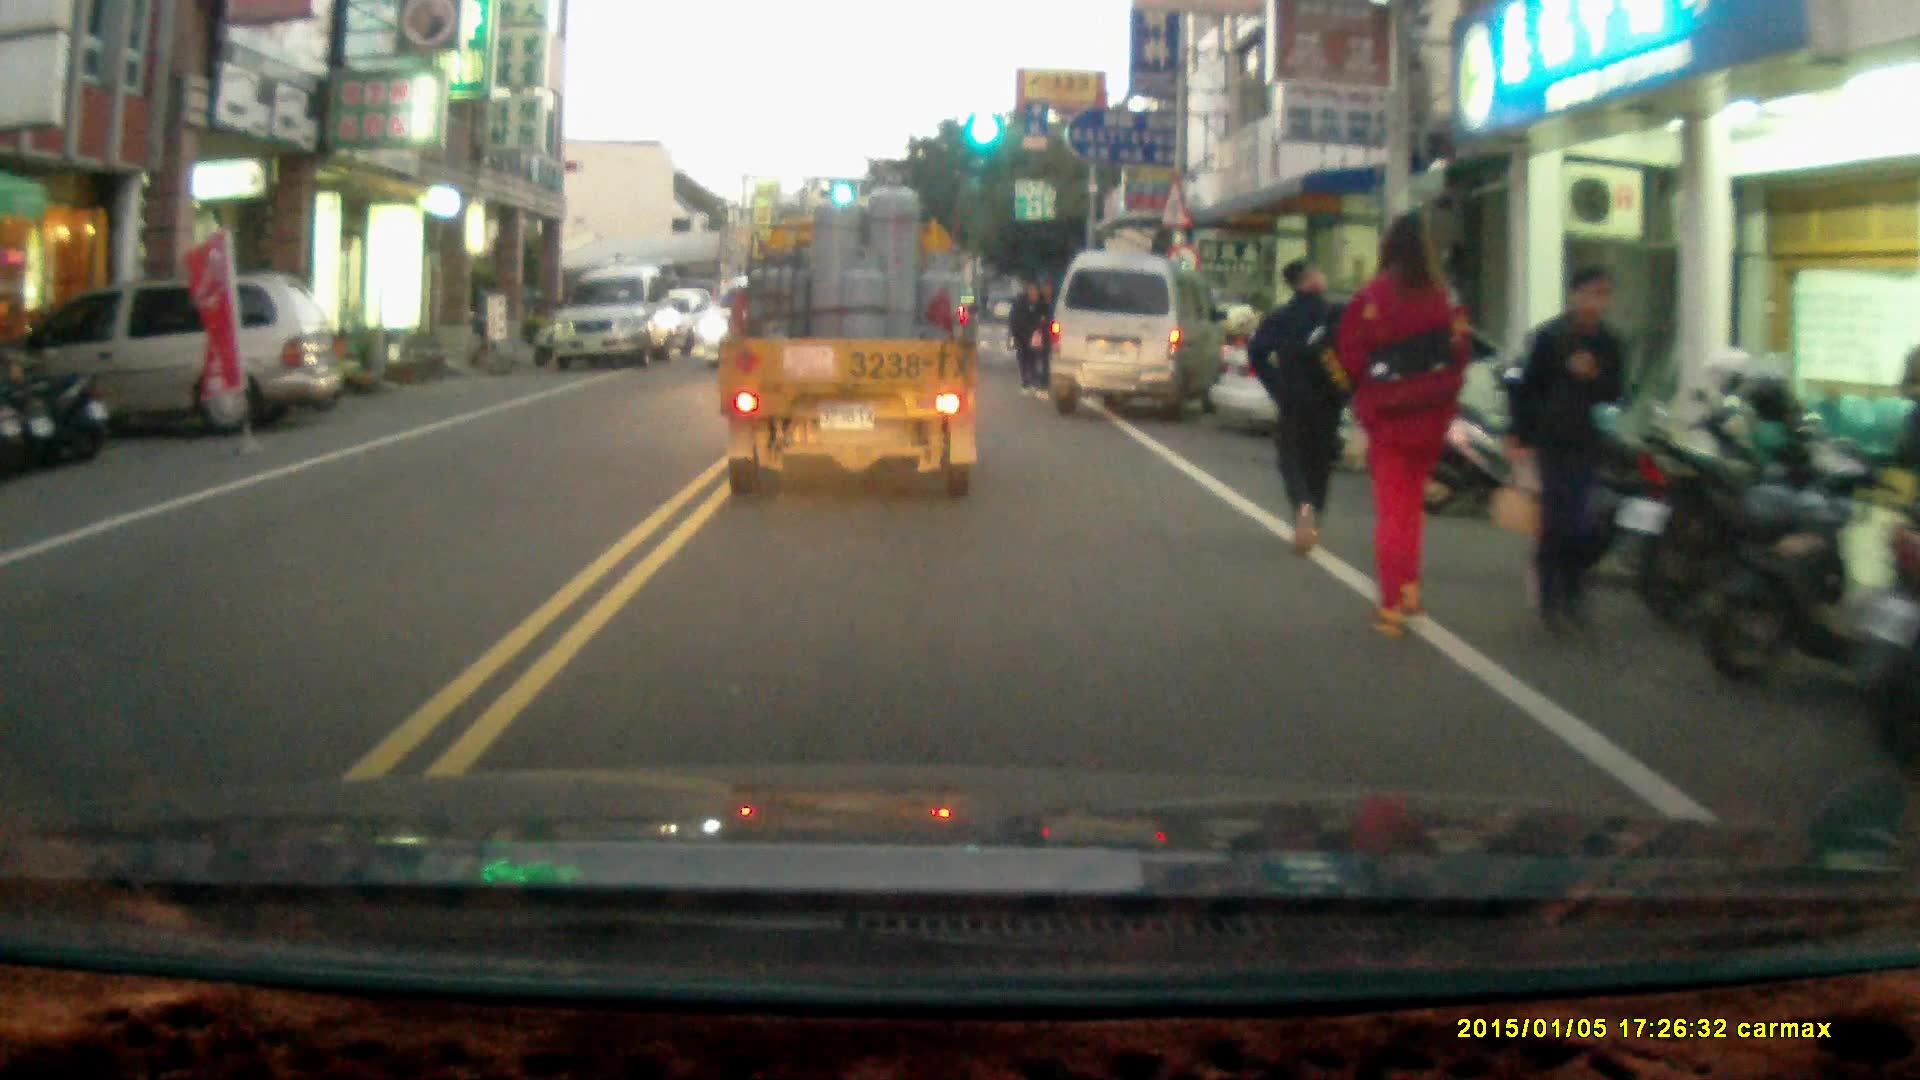pedestrian: (1336, 212, 1470, 636), (1509, 265, 1632, 649), (1246, 259, 1356, 557), (1010, 277, 1047, 397)
vehicle: (718, 169, 989, 509), (13, 274, 347, 445), (1214, 299, 1563, 451), (1050, 249, 1223, 419), (555, 268, 684, 374)
